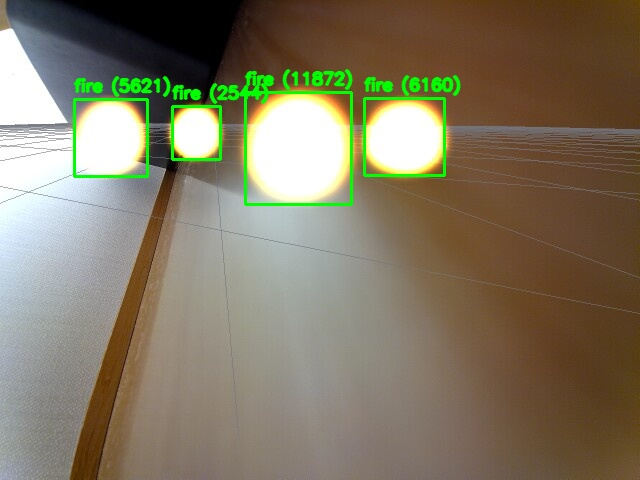fire: (245, 92, 351, 204), (364, 98, 444, 175), (74, 99, 147, 176), (172, 106, 220, 159)
